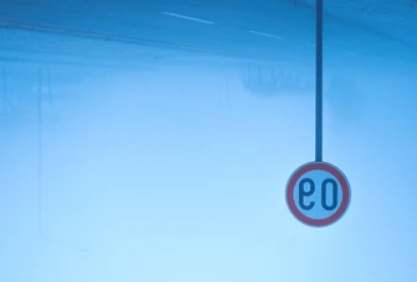Speed limit: (281, 158, 356, 227)
